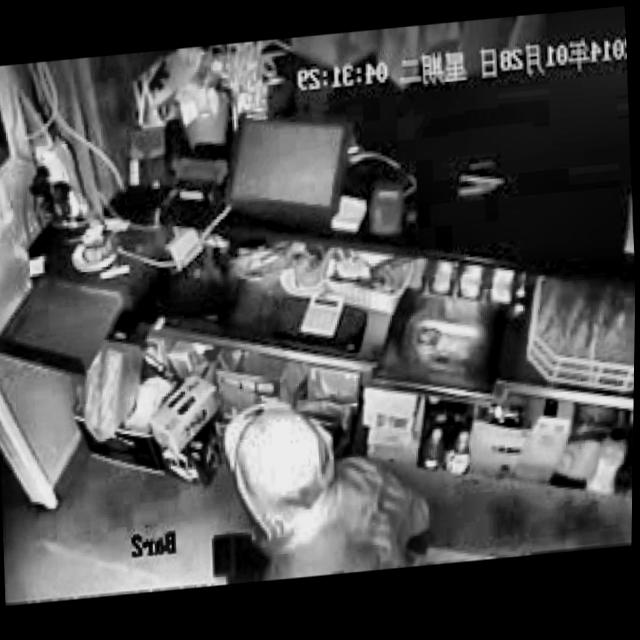burglary: (212, 382, 443, 588)
